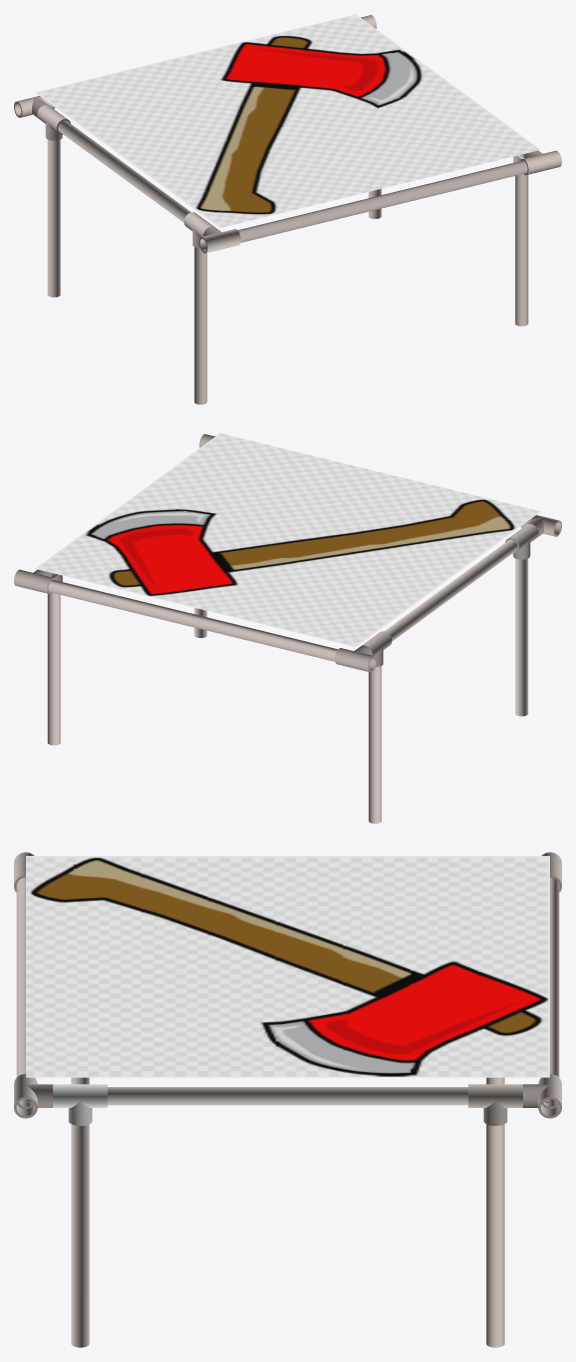
Rendered from table_gman.dae.
The picture shows the model from 3 angles, top to bottom: view 1: azimuth 30°, elevation 25°; view 2: azimuth 150°, elevation 25°; view 3: azimuth 270°, elevation 25°; orthographic projection. The views are drawn at different scales.
Visible parts, largest first — view 1: canvas, pipe_frame_4, pipe_leg_2, pipe_leg_3, pipe_leg_4, pipe_frame_1, T_corner_3, T_corner_4, T_leg_2, T_corner_2, T_leg_3; view 2: canvas, pipe_frame_2, pipe_leg_3, pipe_leg_2, pipe_leg_1, pipe_frame_1, T_corner_2, T_corner_1, T_leg_3, T_corner_3, T_leg_2; view 3: canvas, pipe_frame_3, pipe_leg_4, pipe_leg_1, pipe_frame_4, pipe_frame_2, T_leg_4, T_leg_1, T_corner_4, T_corner_1.
Part boxes in pixels (left/top/right/bottom): canvas: left=35, top=14, right=540, bottom=227; pipe_frame_4: left=238, top=160, right=527, bottom=242; pipe_leg_2: left=47, top=139, right=60, bottom=297; pipe_leg_3: left=194, top=247, right=207, bottom=404; pipe_leg_4: left=515, top=174, right=528, bottom=326; pipe_frame_1: left=58, top=120, right=190, bottom=222; T_corner_3: left=199, top=226, right=240, bottom=253; T_corner_4: left=520, top=150, right=561, bottom=174; T_leg_2: left=37, top=105, right=70, bottom=140; T_corner_2: left=14, top=96, right=55, bottom=118; T_leg_3: left=184, top=212, right=214, bottom=247; canvas: left=35, top=433, right=540, bottom=646; pipe_frame_2: left=48, top=579, right=337, bottom=661; pipe_leg_3: left=515, top=558, right=528, bottom=716; pipe_leg_2: left=368, top=666, right=381, bottom=823; pipe_leg_1: left=47, top=593, right=60, bottom=745; pipe_frame_1: left=385, top=539, right=517, bottom=641; T_corner_2: left=335, top=645, right=376, bottom=672; T_corner_1: left=14, top=569, right=55, bottom=593; T_leg_3: left=505, top=524, right=538, bottom=559; T_corner_3: left=520, top=515, right=561, bottom=537; T_leg_2: left=361, top=631, right=391, bottom=666; canvas: left=26, top=856, right=549, bottom=1077; pipe_frame_3: left=107, top=1087, right=468, bottom=1105; pipe_leg_4: left=71, top=1124, right=89, bottom=1347; pipe_leg_1: left=486, top=1124, right=504, bottom=1347; pipe_frame_4: left=16, top=877, right=25, bottom=1077; pipe_frame_2: left=550, top=877, right=559, bottom=1077; T_leg_4: left=53, top=1084, right=107, bottom=1125; T_leg_1: left=468, top=1084, right=522, bottom=1125; T_corner_4: left=14, top=1074, right=52, bottom=1118; T_corner_1: left=523, top=1074, right=561, bottom=1118.
Bounding box in the file's own units: 0.6731 × 0.6371 × 0.3413.
Materials: 3 (1 with a texture image).
